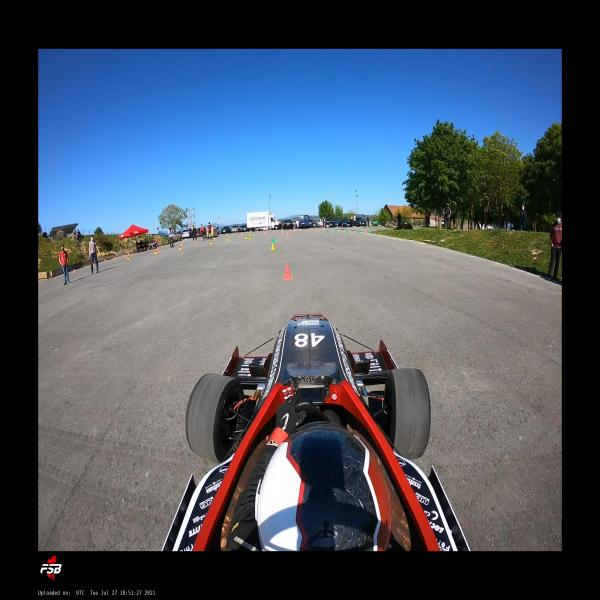orange_cone: (283, 264, 292, 280), (157, 247, 160, 252), (194, 240, 197, 245), (73, 268, 76, 273), (124, 254, 127, 258), (300, 228, 302, 234), (239, 233, 241, 238), (282, 230, 284, 235), (294, 228, 296, 233), (93, 263, 95, 268), (264, 231, 266, 235), (114, 254, 116, 258), (287, 232, 289, 236), (309, 228, 311, 232), (316, 229, 318, 233), (147, 248, 149, 251), (105, 258, 106, 263), (181, 243, 182, 248), (214, 237, 215, 241)
unknown_cone: (271, 235, 274, 243), (369, 229, 371, 236), (335, 228, 337, 234), (346, 228, 348, 234), (358, 229, 360, 234), (326, 228, 328, 232)
yellow_cone: (270, 240, 276, 250), (179, 244, 182, 250), (154, 249, 157, 254), (245, 234, 248, 239), (227, 236, 230, 241), (241, 231, 243, 236), (127, 255, 129, 260), (249, 234, 251, 239), (232, 232, 234, 236), (210, 240, 212, 244)
